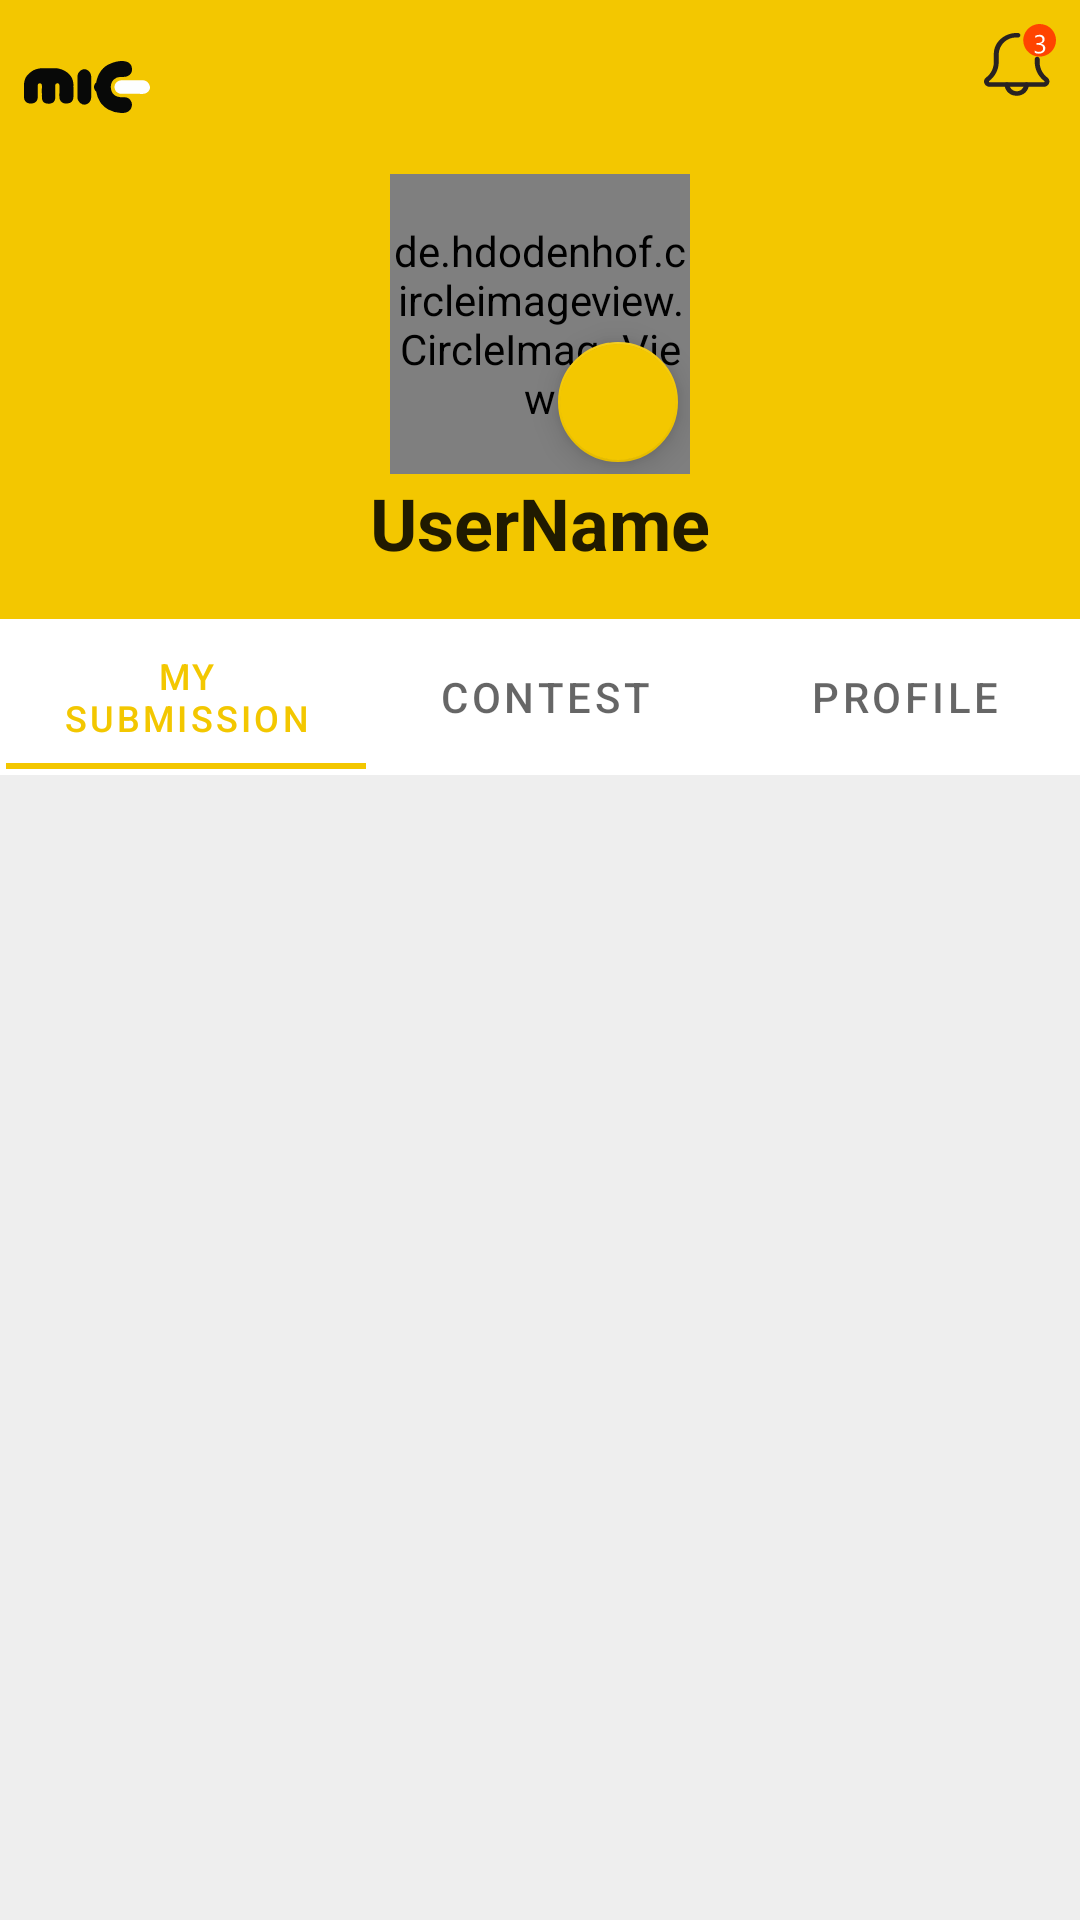

Where icons sit on this 1080x1920 app screen, as (x1, y1, x2, y2):
notification: (984, 24, 1056, 96)
